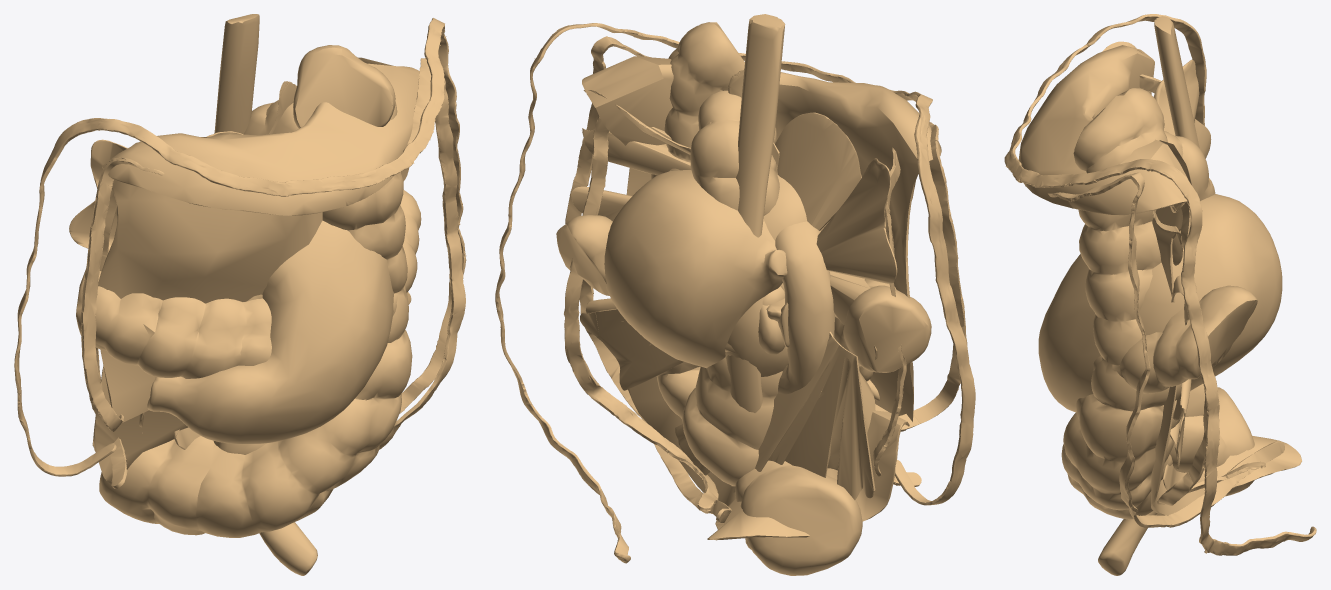
Rendered from digestive.glb.
3 views of the same model, side by side, from view 1: azimuth 30°, elevation 25°; view 2: azimuth 150°, elevation 25°; view 3: azimuth 270°, elevation 25° (orthographic). The views are drawn at different scales.
Parts seen in each view (by area): view 1: transverse_mesocolon, descending_colon, stomach, transverse_colon, taenia_omentalis, taenia_libera, esophagus, mesentery_of_small_intestine, ascending_colon, taenia_mesocolica; view 2: mesentery_of_small_intestine, transverse_mesocolon, stomach, descending_colon, ascending_colon, taenia_omentalis, transverse_colon, esophagus, taenia_libera, taenia_mesocolica, duodenum, rectum (+1 smaller); view 3: descending_colon, transverse_mesocolon, stomach, taenia_omentalis, transverse_colon, taenia_libera, esophagus, mesentery_of_small_intestine, ascending_colon, taenia_mesocolica.
Boxes of the visible parts, x1,y1,x2,y2 form: transverse_mesocolon: (93,57,419,483); descending_colon: (99,45,412,537); stomach: (147,220,393,443); transverse_colon: (76,190,421,378); taenia_omentalis: (14,18,466,476); taenia_libera: (81,58,465,449); esophagus: (214,14,317,575); mesentery_of_small_intestine: (69,81,411,450); ascending_colon: (213,100,298,454); taenia_mesocolica: (89,189,127,488); mesentery_of_small_intestine: (571,69,897,500); transverse_mesocolon: (582,56,941,540); stomach: (604,170,879,400); descending_colon: (649,22,862,575); ascending_colon: (682,90,782,486); taenia_omentalis: (495,23,975,563); transverse_colon: (556,215,931,372); esophagus: (726,14,785,549); taenia_libera: (565,36,967,523); taenia_mesocolica: (564,116,921,511); duodenum: (775,221,835,394); rectum: (725,175,806,376); descending_colon: (1061,88,1254,519); transverse_mesocolon: (1018,45,1301,515); stomach: (1038,194,1282,412); taenia_omentalis: (1004,14,1316,555); transverse_colon: (1093,285,1257,393); taenia_libera: (1048,41,1284,527); esophagus: (1098,16,1199,575); mesentery_of_small_intestine: (1152,59,1211,490); ascending_colon: (1164,131,1215,472); taenia_mesocolica: (1139,74,1265,505).
Size of the model in its own units: 8511012 by 9676013 by 5097724.
